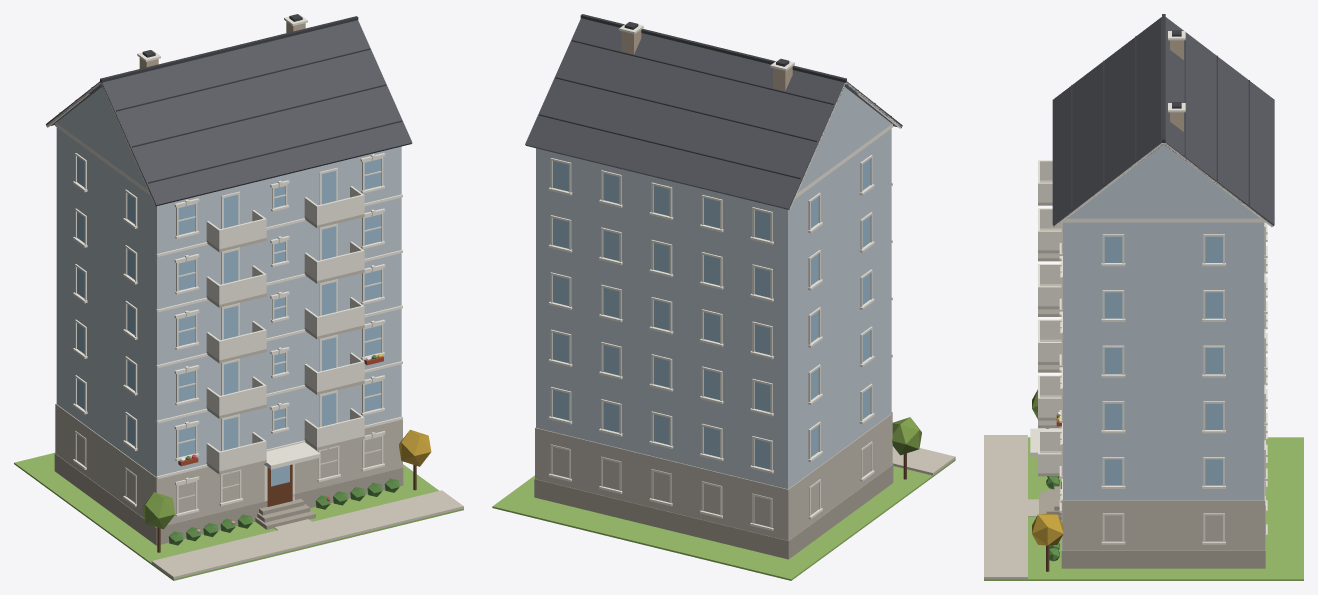
The model's file is Apartman_2_2_Hafif.fbx.
3 renders of one model, left to right at view 1: azimuth 30°, elevation 25°; view 2: azimuth 150°, elevation 25°; view 3: azimuth 270°, elevation 25°, orthographic. The views are drawn at different scales.
Parts seen in each view (by area): view 1: Apartman_2_2_Hafif; view 2: Apartman_2_2_Hafif; view 3: Apartman_2_2_Hafif.
Boxes of the visible parts, x1=… form: Apartman_2_2_Hafif: x1=14, y1=14, x2=463, y2=580; Apartman_2_2_Hafif: x1=492, y1=14, x2=955, y2=580; Apartman_2_2_Hafif: x1=984, y1=14, x2=1303, y2=580.
Size of the model in its own units: 15.31 by 22.2 by 14.57.
